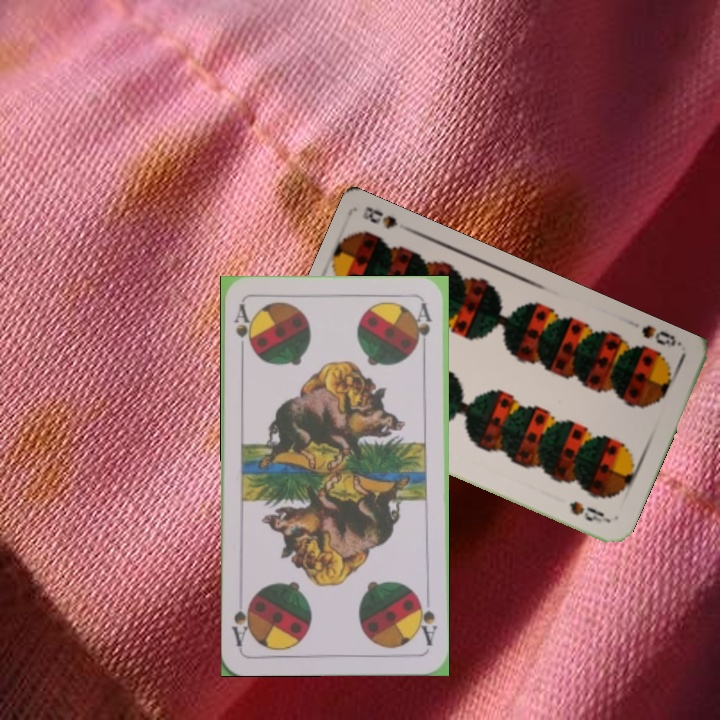S8: (637, 321, 685, 349)
SA: (414, 590, 440, 648), (229, 301, 254, 360)
